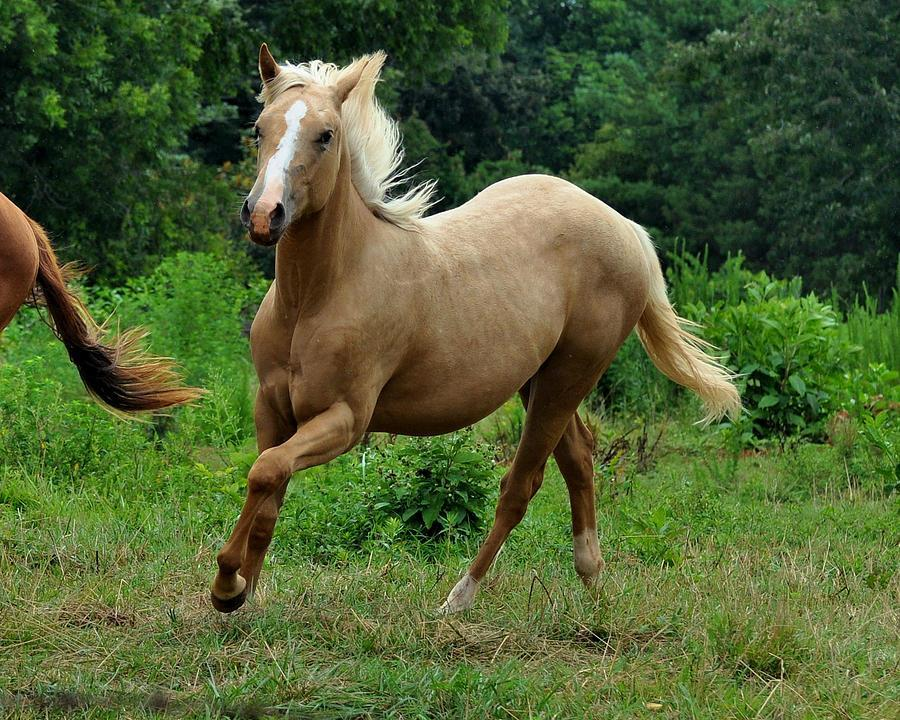horse: (199, 36, 752, 636)
